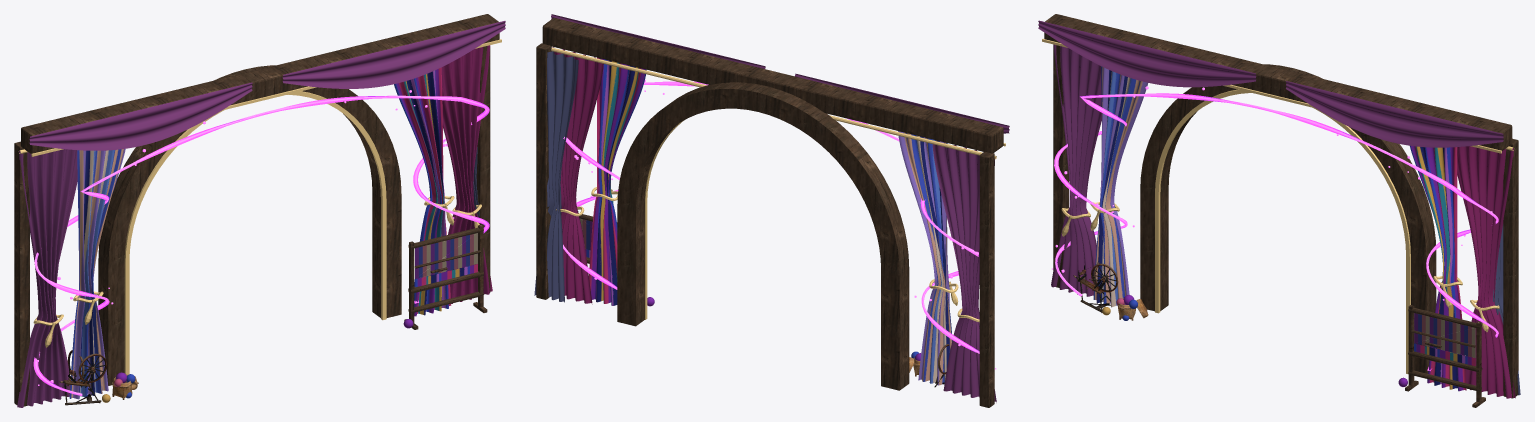
Rendered from fachada_08.glb.
3 renders of one model, left to right at view 1: azimuth 30°, elevation 25°; view 2: azimuth 150°, elevation 25°; view 3: azimuth 330°, elevation 25°, orthographic. The views are drawn at different scales.
Visible parts, largest first — view 1: F08_madeira, F08_roxo, F08_listrado_a, F08_magenta, F08_listrado_b, F08_ouro, F08_fio_luz, F08_urdume, F08_fio_halo, F08_spinning_wheel_01; view 2: F08_madeira, F08_roxo, F08_listrado_b, F08_listrado_a, F08_magenta, F08_azul, F08_ouro, F08_fio_luz, F08_fio_halo; view 3: F08_madeira, F08_roxo, F08_magenta, F08_listrado_a, F08_listrado_b, F08_ouro, F08_fio_luz, F08_urdume, F08_fio_halo, F08_spinning_wheel_01, F08_azul.
Part boxes in pixels (x1=…): F08_madeira: x1=14, y1=14, x2=499, y2=406; F08_roxo: x1=17, y1=21, x2=505, y2=407; F08_listrado_a: x1=69, y1=148, x2=125, y2=399; F08_magenta: x1=441, y1=45, x2=492, y2=303; F08_listrado_b: x1=394, y1=67, x2=477, y2=316; F08_ouro: x1=18, y1=39, x2=501, y2=374; F08_fio_luz: x1=34, y1=90, x2=488, y2=395; F08_urdume: x1=415, y1=233, x2=477, y2=278; F08_fio_halo: x1=33, y1=96, x2=489, y2=395; F08_spinning_wheel_01: x1=59, y1=350, x2=106, y2=405; F08_madeira: x1=536, y1=18, x2=1003, y2=407; F08_roxo: x1=551, y1=14, x2=1009, y2=402; F08_listrado_b: x1=585, y1=57, x2=646, y2=305; F08_listrado_a: x1=898, y1=131, x2=952, y2=385; F08_magenta: x1=552, y1=47, x2=603, y2=304; F08_azul: x1=534, y1=51, x2=578, y2=302; F08_ouro: x1=551, y1=47, x2=1005, y2=322; F08_fio_luz: x1=563, y1=79, x2=996, y2=369; F08_fio_halo: x1=563, y1=81, x2=979, y2=352; F08_madeira: x1=1044, y1=14, x2=1518, y2=407; F08_roxo: x1=1038, y1=20, x2=1503, y2=296; F08_magenta: x1=1457, y1=146, x2=1515, y2=398; F08_listrado_a: x1=1093, y1=66, x2=1147, y2=307; F08_listrado_b: x1=1410, y1=145, x2=1475, y2=391; F08_ouro: x1=1042, y1=38, x2=1514, y2=374; F08_fio_luz: x1=1052, y1=86, x2=1498, y2=370; F08_urdume: x1=1414, y1=313, x2=1475, y2=357; F08_fio_halo: x1=1054, y1=93, x2=1498, y2=370; F08_spinning_wheel_01: x1=1073, y1=261, x2=1118, y2=312; F08_azul: x1=1493, y1=224, x2=1520, y2=395.
Size of the model in its own units: 12.4 by 7.04 by 1.31.
Materials: 13 (10 with a texture image).
